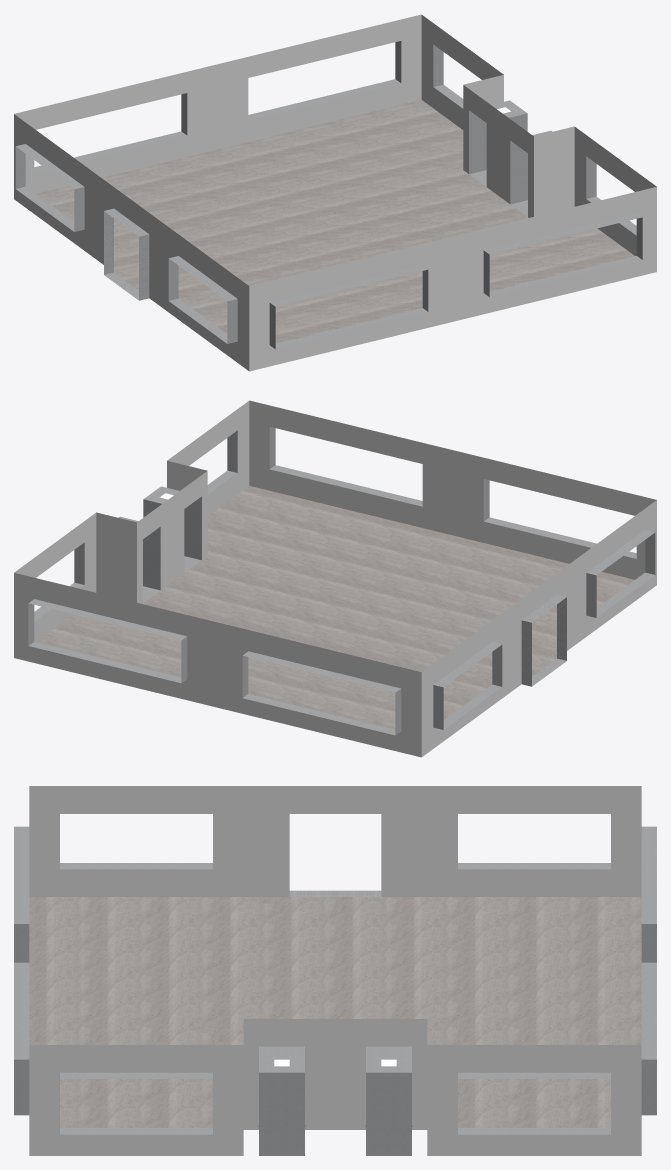
The model's file is lobby.glb.
3 views of the same model, one above another, from view 1: azimuth 30°, elevation 25°; view 2: azimuth 150°, elevation 25°; view 3: azimuth 270°, elevation 25° (orthographic). The views are drawn at different scales.
Visible parts, largest first — view 1: lobby-col; view 2: lobby-col; view 3: lobby-col.
Boxes of the visible parts, box(x1,y1,x2,y2) form: lobby-col: box(14, 14, 656, 371); lobby-col: box(14, 400, 656, 757); lobby-col: box(14, 786, 656, 1155).
Size of the model in its own units: 21 by 4 by 21.
Materials: 4 (3 with a texture image).
